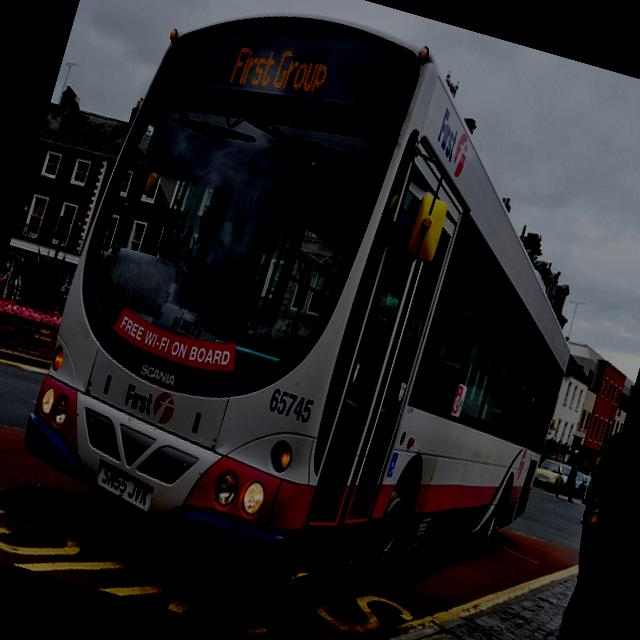Vehicle: (0, 0, 640, 640), (532, 456, 569, 494), (555, 462, 572, 486)
